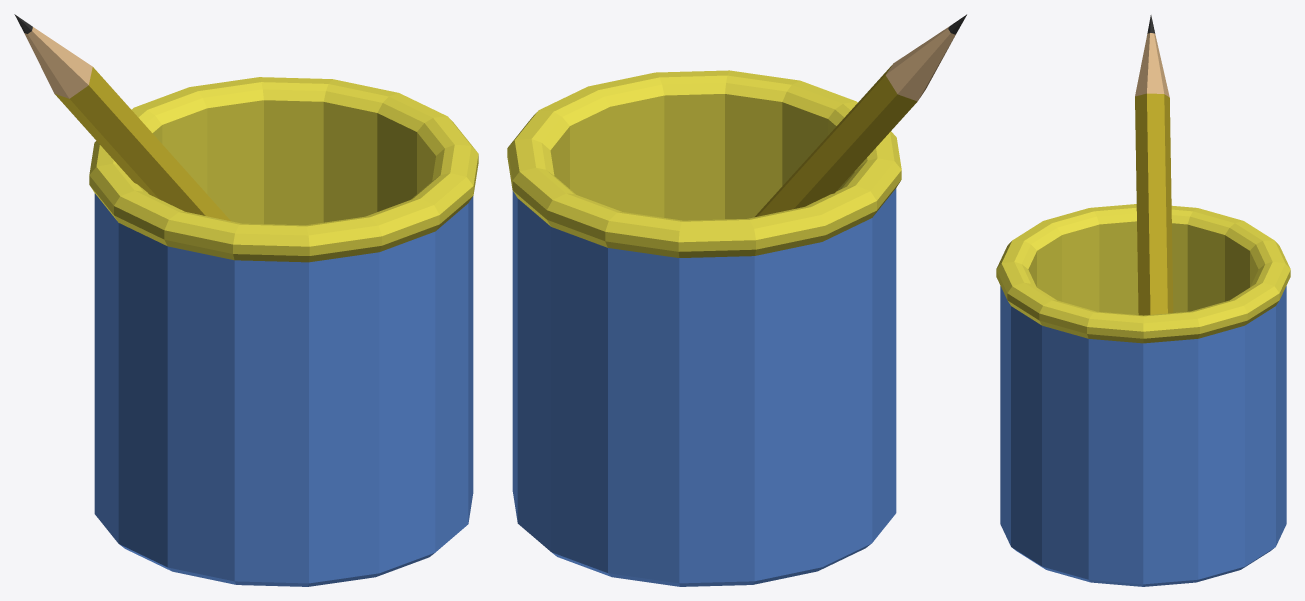
File: copo_de_lapis2.glb
The picture shows the model from 3 angles, left to right: view 1: azimuth 30°, elevation 25°; view 2: azimuth 150°, elevation 25°; view 3: azimuth 270°, elevation 25°; orthographic projection. The views are drawn at different scales.
Parts seen in each view (by area): view 1: Cup, Pencil; view 2: Cup, Pencil; view 3: Cup, Pencil.
Part boxes in pixels (x1,y1,x2,y2): Cup: [89, 77, 478, 586]; Pencil: [14, 14, 230, 221]; Cup: [507, 70, 901, 586]; Pencil: [754, 14, 966, 217]; Cup: [996, 204, 1290, 586]; Pencil: [1135, 15, 1173, 315].
Size of the model in its own units: 4.04 by 4.95 by 3.16.
